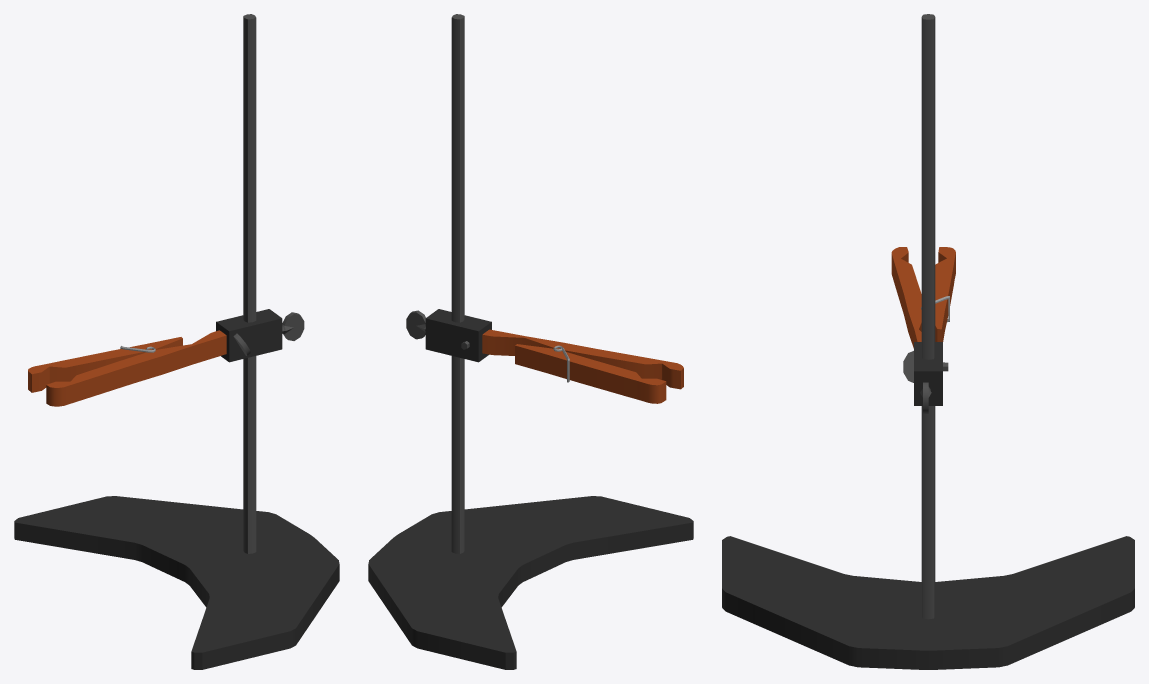
The model's file is EnvironScene_TestTubeHolder_01.FBX.
The picture shows the model from 3 angles, left to right: view 1: azimuth 30°, elevation 25°; view 2: azimuth 150°, elevation 25°; view 3: azimuth 270°, elevation 25°; orthographic projection. The views are drawn at different scales.
Parts seen in each view (by area): view 1: Plane003; view 2: Plane003; view 3: Plane003.
Boxes of the visible parts, x1,y1,x2,y2 form: Plane003: (14, 14, 339, 669); Plane003: (368, 14, 693, 669); Plane003: (722, 14, 1134, 669).
Bounding box in the file's own units: 66.84 × 128 × 77.29.
